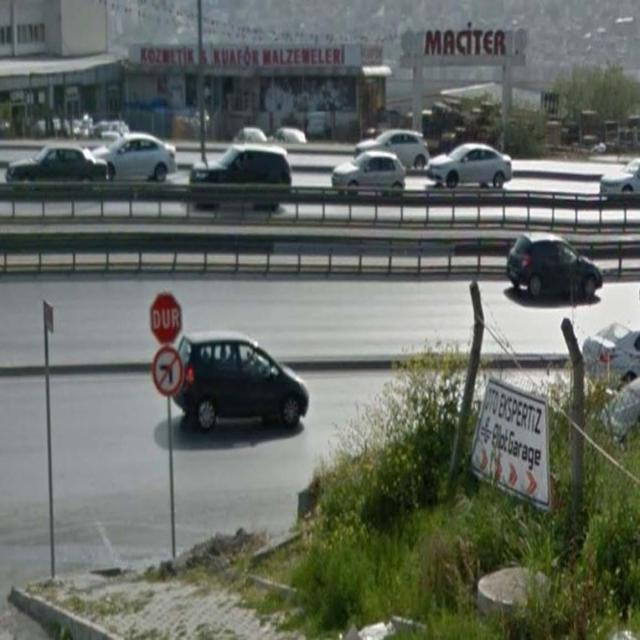dur: (150, 293, 183, 343)
soladonulmez: (153, 346, 184, 398)
